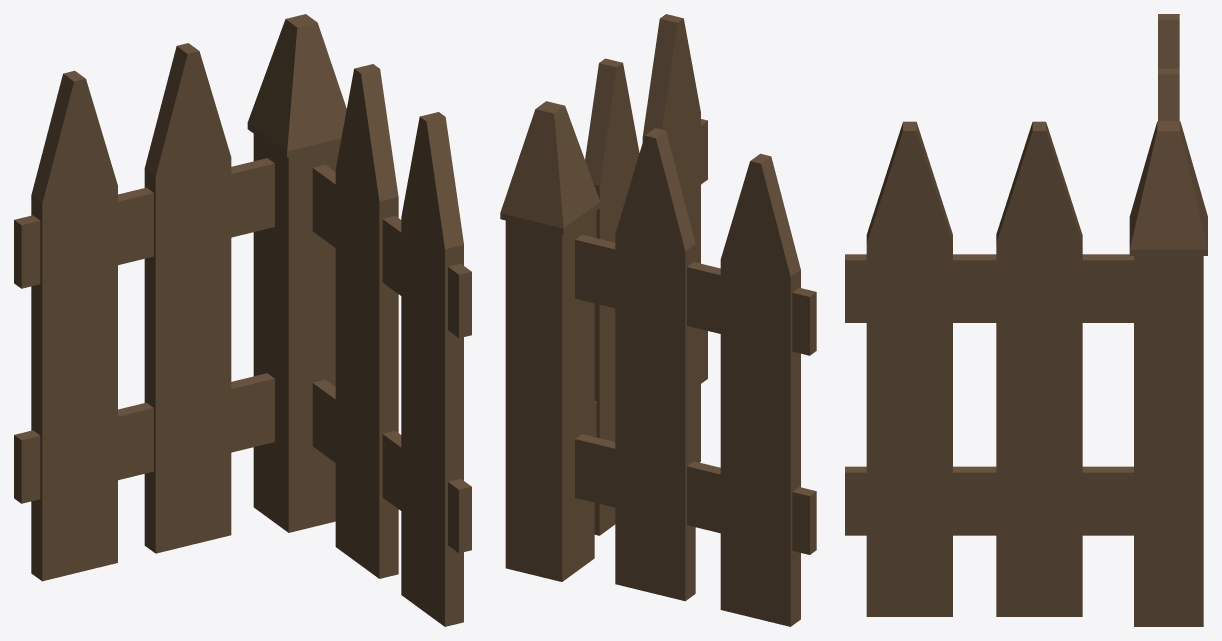
The model's file is fence_corner.fbx.
The picture shows the model from 3 angles, left to right: view 1: azimuth 30°, elevation 25°; view 2: azimuth 150°, elevation 25°; view 3: azimuth 270°, elevation 25°; orthographic projection. The views are drawn at different scales.
Visible parts, largest first — view 1: C Picket Fence 2, C Picket Fence 1, Corner Fence, C Support 3, C Support 4, C Support 1, C Support 2; view 2: C Picket Fence 2, Corner Fence, C Picket Fence 1, C Support 4, C Support 3, C Support 1, C Support 2; view 3: C Picket Fence 1, Corner Fence, C Support 2, C Support 1, C Picket Fence 2.
Boxes of the visible parts, x1,y1,x2,y2 form: C Picket Fence 2: (31,43,231,581); C Picket Fence 1: (335,64,463,626); Corner Fence: (247,14,346,532); C Support 3: (14,158,274,288); C Support 4: (14,373,274,503); C Support 1: (312,164,471,338); C Support 2: (312,379,471,553); C Picket Fence 2: (615,128,800,626); Corner Fence: (500,101,600,581); C Picket Fence 1: (585,14,700,535); C Support 4: (575,434,816,554); C Support 3: (575,234,816,355); C Support 1: (594,119,707,237); C Support 2: (594,329,707,437); C Picket Fence 1: (866,121,1082,616); Corner Fence: (1129,121,1207,626); C Support 2: (845,466,1133,535); C Support 1: (845,254,1133,322); C Picket Fence 2: (1158,14,1179,121).
Size of the model in its own units: 112 by 166 by 112.
